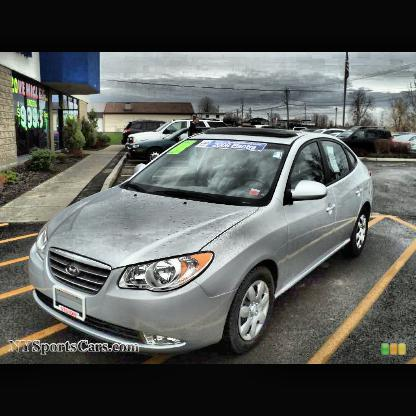Hyundai Elantra Sedan 2007: (31, 129, 373, 351)
